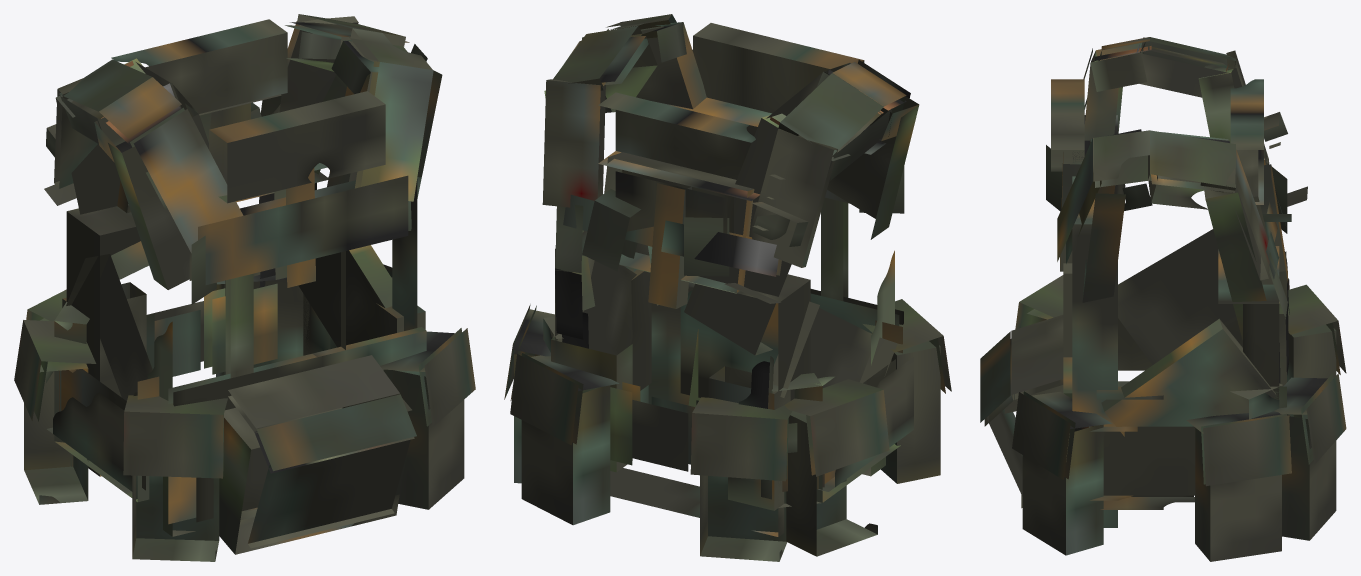
The model's file is defender_iii.obj.
3 renders of one model, left to right at view 1: azimuth 30°, elevation 25°; view 2: azimuth 150°, elevation 25°; view 3: azimuth 270°, elevation 25°, orthographic. The views are drawn at different scales.
Parts seen in each view (by area): view 1: defender_iii; view 2: defender_iii; view 3: defender_iii.
Boxes of the visible parts, bbox=[...] form: defender_iii: bbox=[14, 14, 475, 561]; defender_iii: bbox=[504, 14, 951, 561]; defender_iii: bbox=[980, 37, 1346, 561].
Size of the model in its own units: 0.8231 by 0.9484 by 0.7515.
